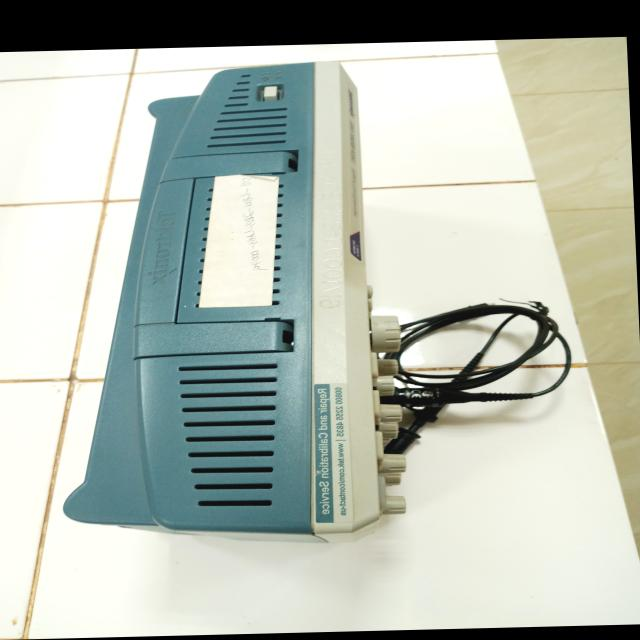Digital Oscilloscope: (22, 44, 450, 552)
